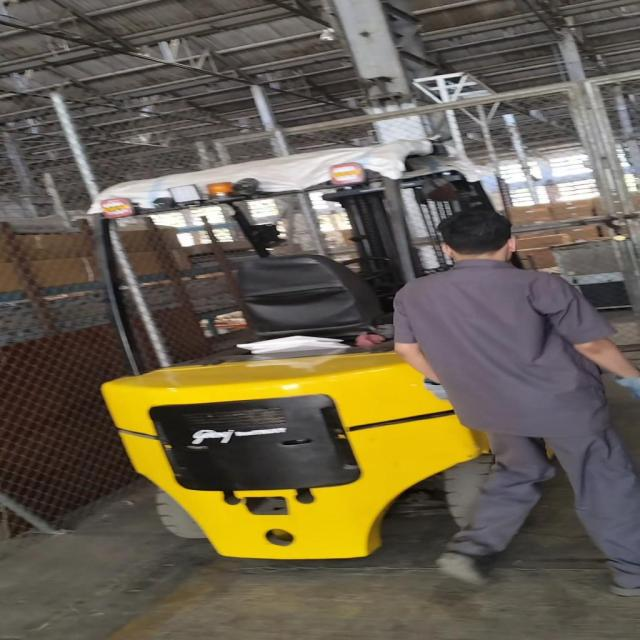Gloves-Detection: (422, 380, 445, 400), (614, 379, 640, 396)
